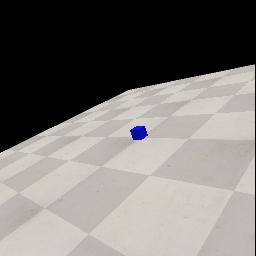box: (130, 126, 148, 140)
